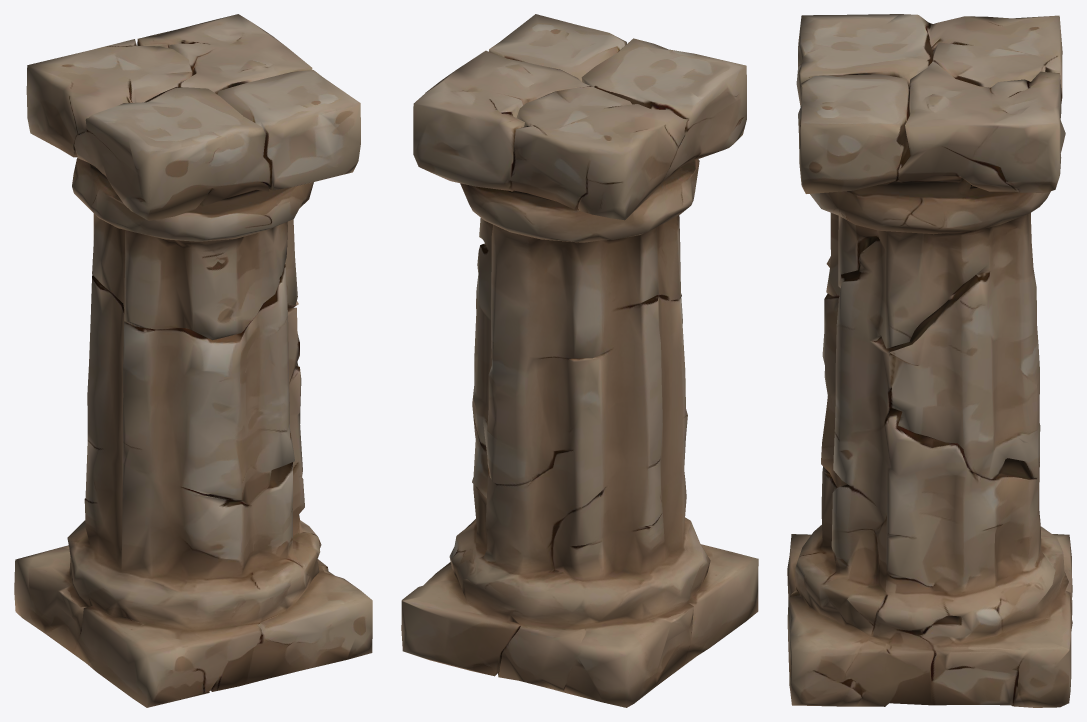
Rendered from ruin_column.glb.
3 views of the same model, side by side, from view 1: azimuth 30°, elevation 25°; view 2: azimuth 150°, elevation 25°; view 3: azimuth 270°, elevation 25° (orthographic). The views are drawn at different scales.
Visible parts, largest first — view 1: tripo_node_96f260b3-1b25-4301-9e88-ec2903a174d2; view 2: tripo_node_96f260b3-1b25-4301-9e88-ec2903a174d2; view 3: tripo_node_96f260b3-1b25-4301-9e88-ec2903a174d2.
Part boxes in pixels (left/top/right/bottom): tripo_node_96f260b3-1b25-4301-9e88-ec2903a174d2: left=14, top=14, right=372, bottom=707; tripo_node_96f260b3-1b25-4301-9e88-ec2903a174d2: left=401, top=14, right=758, bottom=707; tripo_node_96f260b3-1b25-4301-9e88-ec2903a174d2: left=787, top=14, right=1072, bottom=707.
Size of the model in its own units: 0.4393 by 1 by 0.4416.
1 material, 1 textured.
